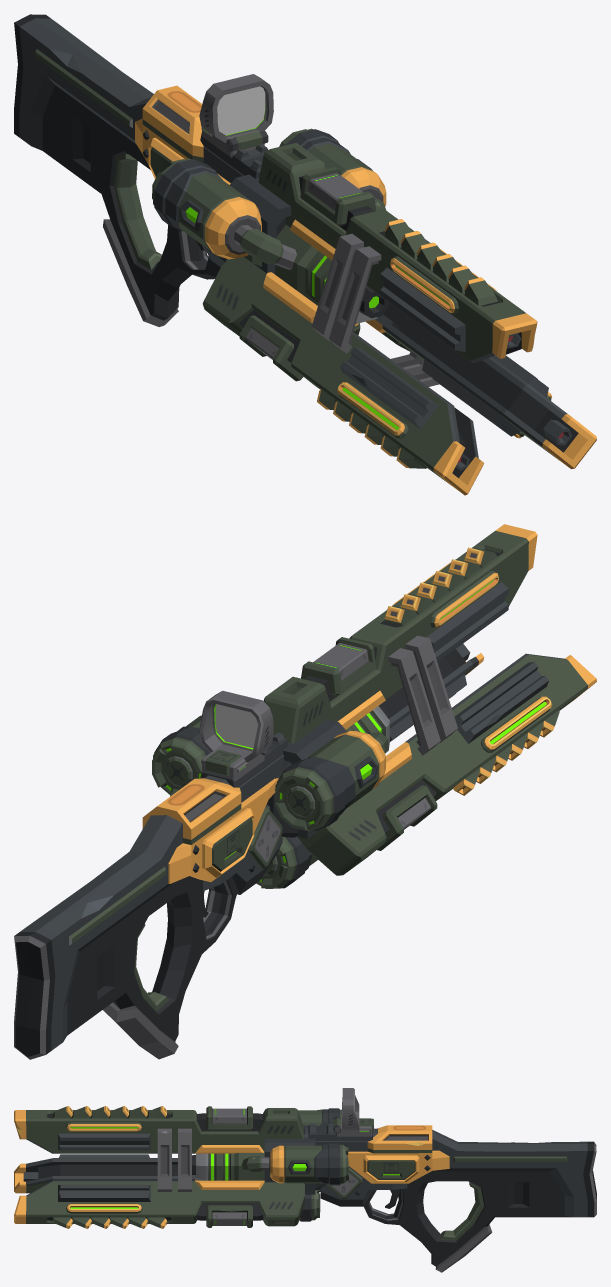
The model's file is SM_Wep_PowerRifle_01.fbx.
3 renders of one model, top to bottom at view 1: azimuth 30°, elevation 25°; view 2: azimuth 150°, elevation 25°; view 3: azimuth 270°, elevation 25°, orthographic. The views are drawn at different scales.
Visible parts, largest first — view 1: SM_Wep_PowerRifle_01, SM_Wep_PowerRifle_01_HoloSight_01; view 2: SM_Wep_PowerRifle_01, SM_Wep_PowerRifle_01_HoloSight_01; view 3: SM_Wep_PowerRifle_01.
Boxes of the visible parts, left/top/right/bottom form: SM_Wep_PowerRifle_01: left=14, top=14, right=596, bottom=495; SM_Wep_PowerRifle_01_HoloSight_01: left=217, top=86, right=265, bottom=134; SM_Wep_PowerRifle_01: left=14, top=524, right=596, bottom=1059; SM_Wep_PowerRifle_01_HoloSight_01: left=215, top=704, right=257, bottom=748; SM_Wep_PowerRifle_01: left=14, top=1088, right=596, bottom=1272.
Bounding box in the file's own units: 91.74 × 145 × 430.
